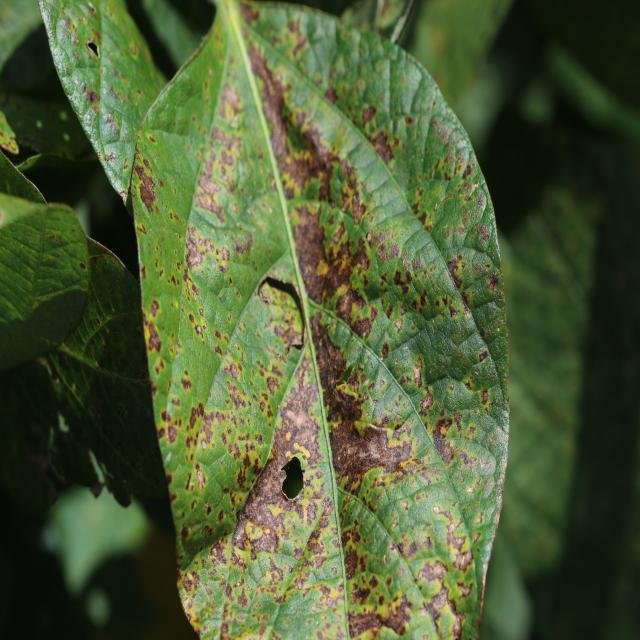Bacterial_Blight: (195, 129, 255, 219), (179, 537, 231, 636), (436, 528, 483, 623), (270, 369, 318, 461), (421, 114, 469, 189), (169, 386, 207, 478), (348, 555, 397, 621), (376, 449, 436, 502), (288, 203, 323, 290), (209, 254, 258, 304), (275, 143, 315, 197), (339, 160, 377, 216), (247, 520, 284, 557), (224, 375, 256, 417), (389, 260, 424, 297), (335, 386, 366, 425), (186, 305, 213, 346), (370, 128, 397, 166), (137, 172, 156, 211), (432, 414, 457, 442), (232, 516, 250, 549), (78, 81, 99, 107), (418, 389, 434, 418), (186, 243, 204, 268), (343, 550, 358, 580), (147, 323, 161, 353), (448, 533, 468, 552), (361, 104, 377, 127), (266, 375, 281, 397), (411, 362, 423, 387), (182, 572, 196, 593), (474, 225, 490, 243), (336, 381, 353, 394), (167, 424, 178, 443), (180, 375, 192, 391), (380, 341, 390, 360), (480, 388, 490, 405), (150, 300, 160, 316), (104, 151, 117, 163), (479, 350, 489, 362), (143, 157, 151, 170), (62, 132, 70, 141), (466, 485, 474, 494), (36, 120, 43, 129), (79, 262, 86, 270), (495, 326, 501, 334)
Soybean: (135, 0, 509, 640)
